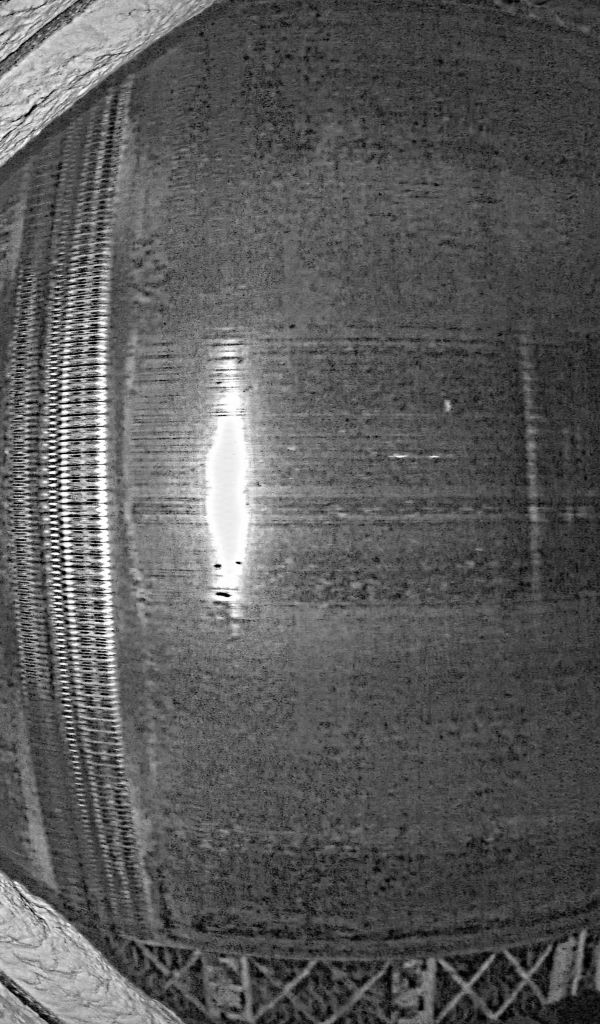splice: (8, 71, 154, 945)
